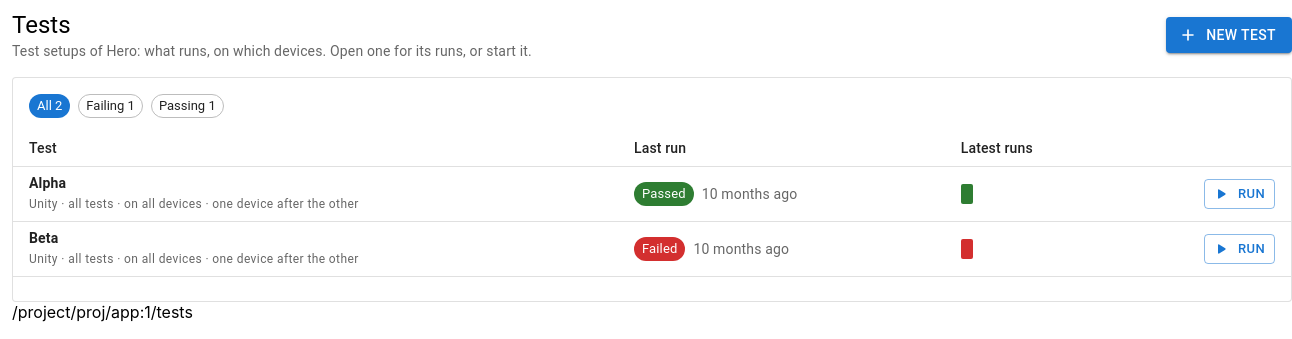
Test case: TestsIndexPage filtering › filters by how the tests are doing and resets on a second click
The width and height of the screenshot is (1292, 339).
Expected: the text "Alpha" is shown, [29,175,66,191]
Click the button "Failing 1". click: (111, 106)
box: [78,94,143,118]
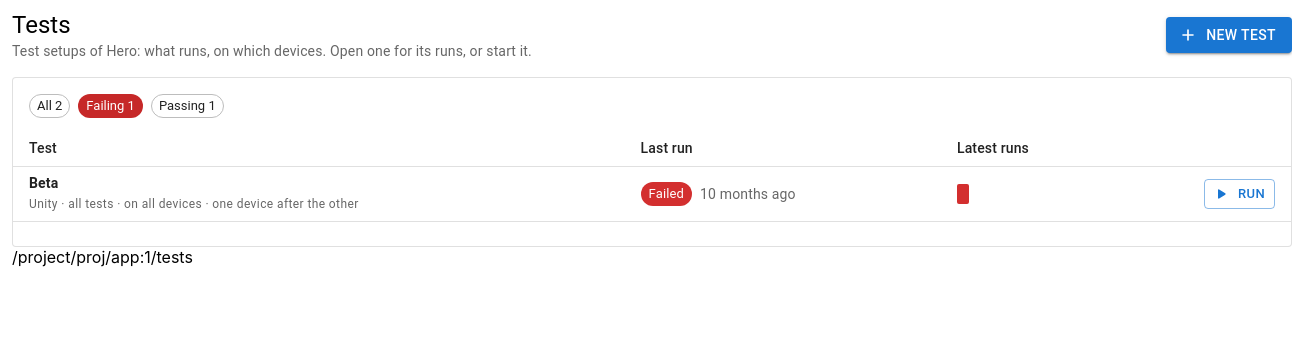
Expected: the text "Beta" is shown, [29,175,58,191]
Expected: the text "Alpha" is gone
Click the button "Failing 1". click: (111, 106)
box: [78,94,143,118]
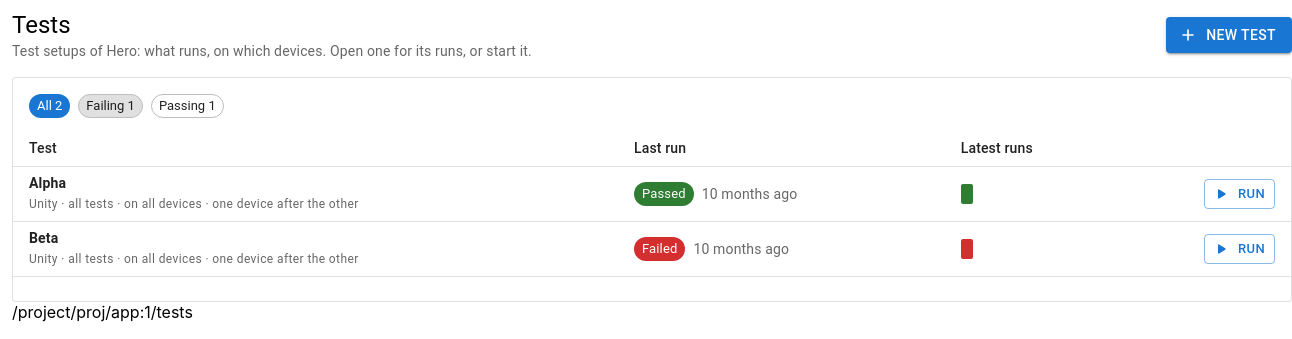
Expected: the text "Alpha" is shown, [29,175,66,191]
Click the button "Passing 1". click: (187, 106)
box: [151,94,224,118]
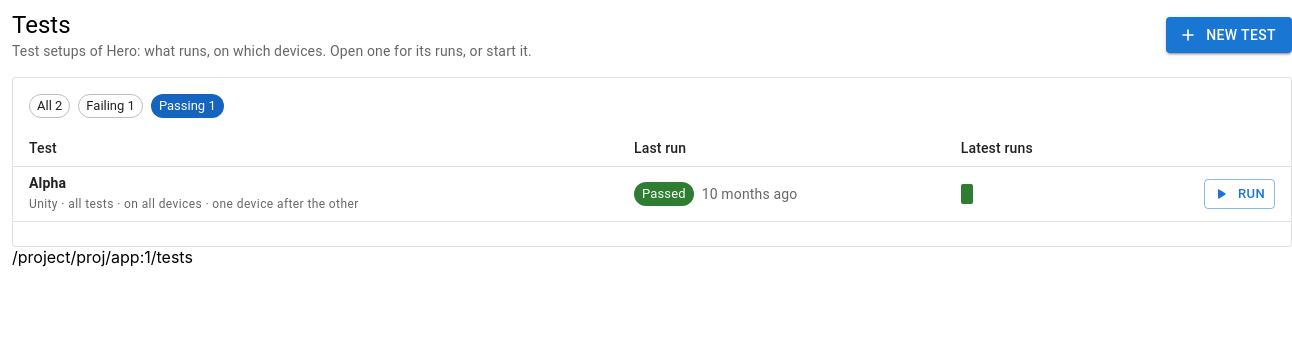
Expected: the text "Beta" is gone
